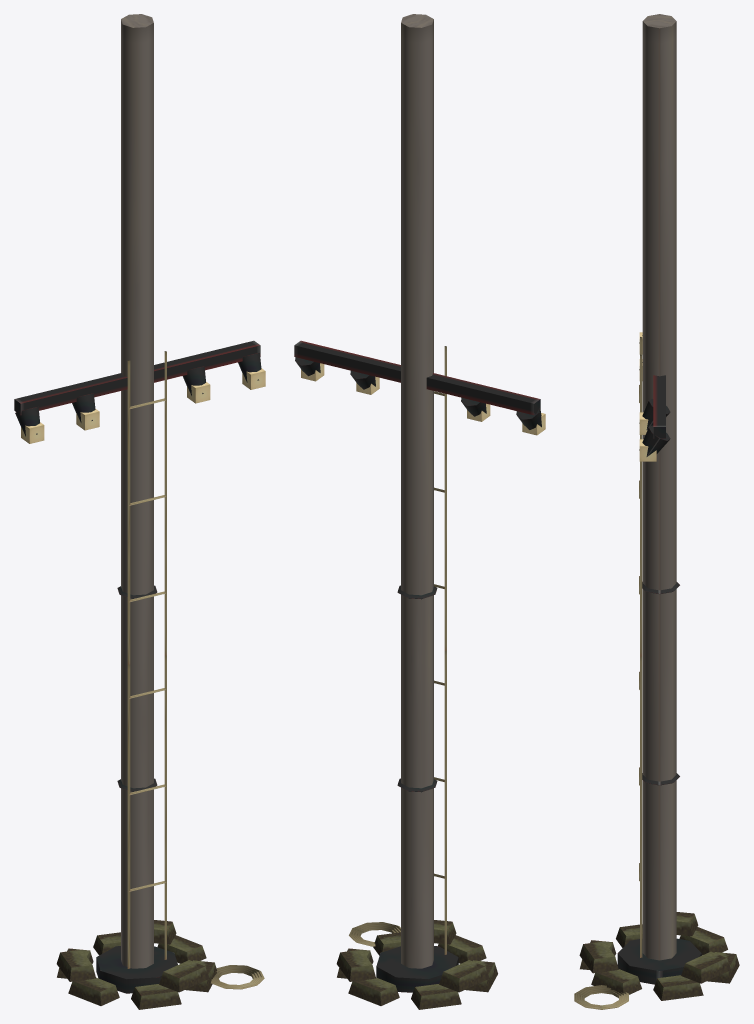
File: big_top_pole.obj
The picture shows the model from 3 angles, left to right: view 1: azimuth 30°, elevation 25°; view 2: azimuth 150°, elevation 25°; view 3: azimuth 270°, elevation 25°; orthographic projection.
Parts seen in each view (by area): view 1: big_top_pole, big_top_pole_lamps; view 2: big_top_pole, big_top_pole_lamps; view 3: big_top_pole, big_top_pole_lamps.
Part boxes in pixels (<box>): big_top_pole: <box>14,14,264,1009</box>; big_top_pole_lamps: <box>21,368,265,443</box>; big_top_pole: <box>294,14,541,1009</box>; big_top_pole_lamps: <box>301,363,545,435</box>; big_top_pole: <box>574,14,739,1009</box>; big_top_pole_lamps: <box>639,332,656,461</box>.
Bounding box in the file's own units: 2.64 × 9.9 × 1.57.
Materials: 1 (1 with a texture image).
